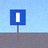sign: (10, 9, 26, 41)
